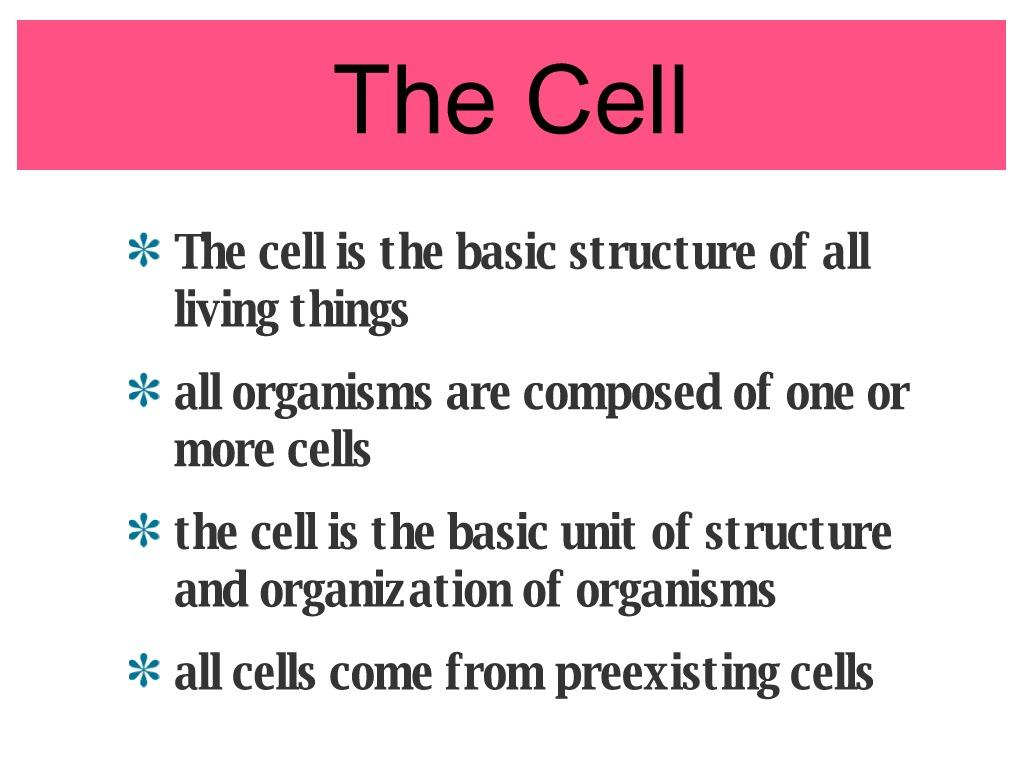paragraph: (116, 215, 934, 711)
title: (324, 41, 704, 146)
